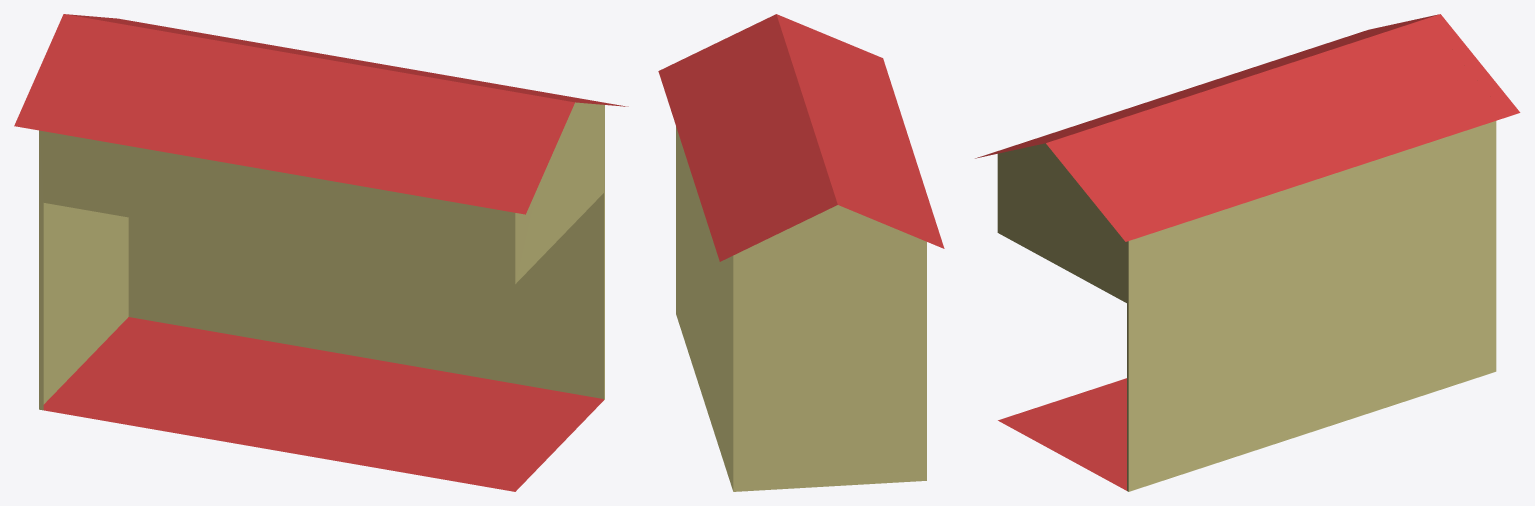
3 renders of one model, left to right at view 1: azimuth 30°, elevation 25°; view 2: azimuth 150°, elevation 25°; view 3: azimuth 270°, elevation 25°, orthographic. The views are drawn at different scales.
Bounding box in the file's own units: 14.6 × 15.9 × 10.11.
